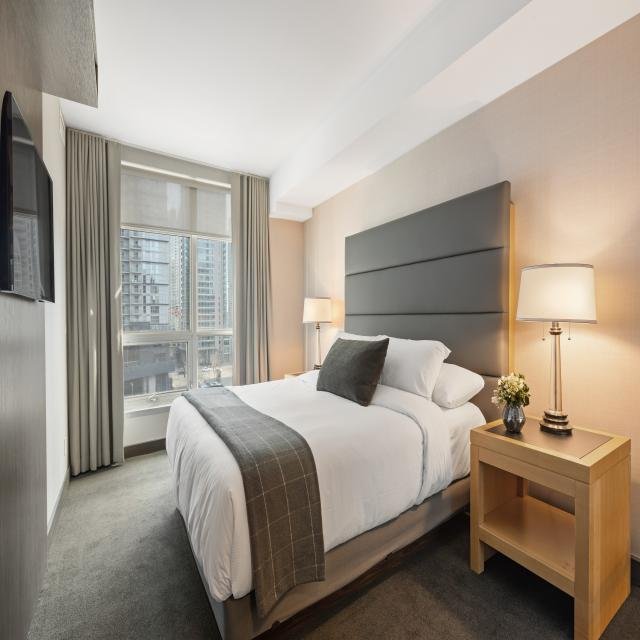floor: (27, 449, 222, 640), (279, 517, 574, 640), (598, 583, 640, 640)
